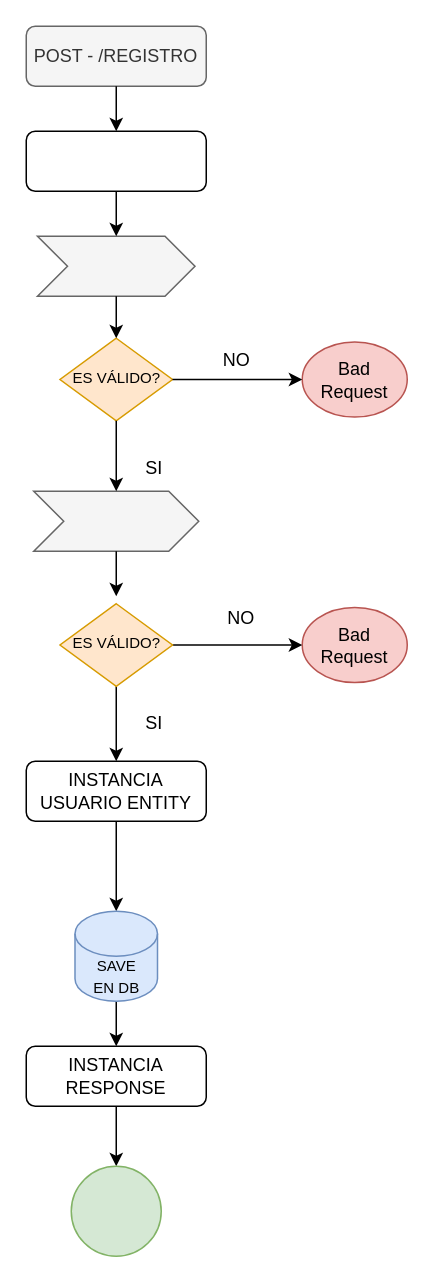
Some shapes in this 434 by 1283 pixel diagram are drawn without their labels. Each missing label, with the centre of its shape:
"RETURN RESPONSE" belongs at point (115, 1210).
"UsuarioDTO" belongs at point (115, 160).
"VALIDATE EMAIL" belongs at point (115, 265).
"VALIDATE PASSWORD" belongs at point (115, 520).
